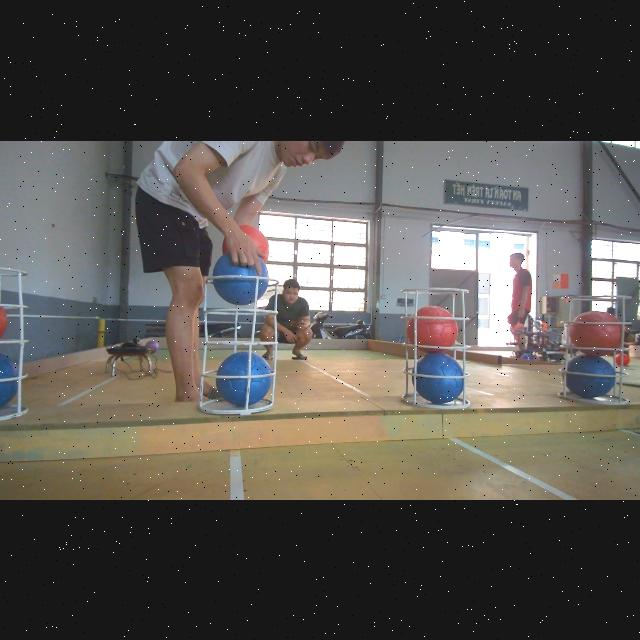B: (216, 352, 272, 406), (411, 352, 464, 404), (562, 354, 616, 398), (0, 351, 20, 413)
R: (569, 310, 623, 356), (406, 306, 458, 352), (1, 292, 8, 348)
